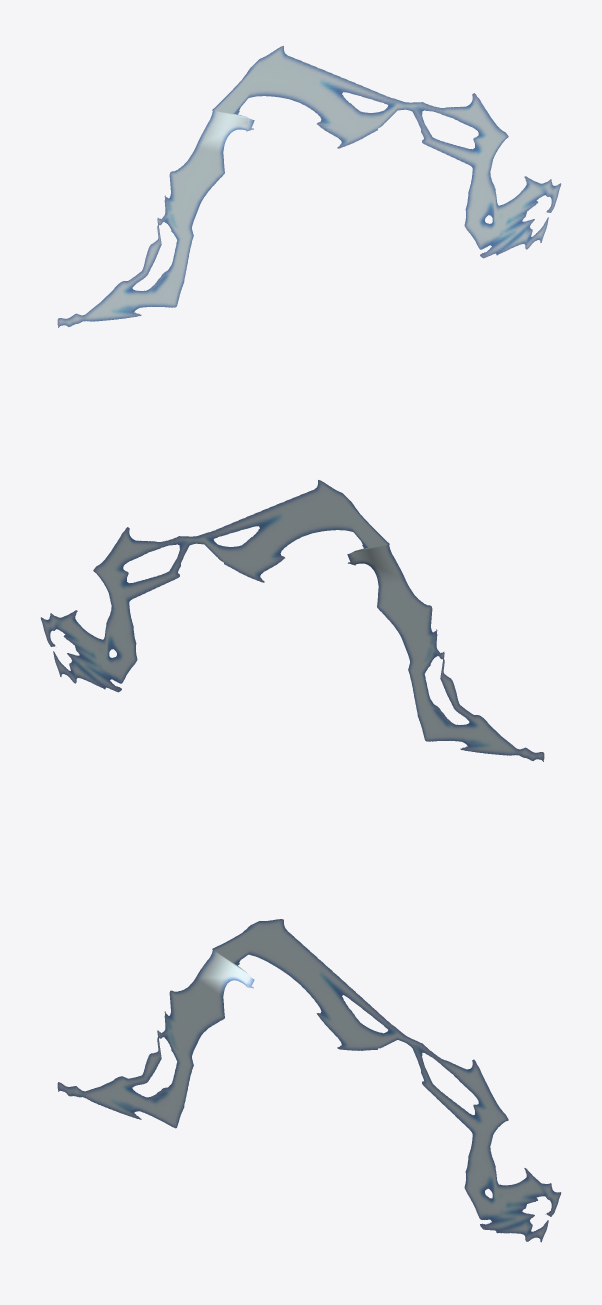
File: shandian_3.FBX
The picture shows the model from 3 angles, top to bottom: view 1: azimuth 30°, elevation 25°; view 2: azimuth 150°, elevation 25°; view 3: azimuth 330°, elevation 25°; orthographic projection.
Visible parts, largest first — view 1: shandian_3; view 2: shandian_3; view 3: shandian_3.
Boxes of the visible parts, bbox=[...] form: shandian_3: bbox=[57, 46, 561, 327]; shandian_3: bbox=[40, 480, 544, 761]; shandian_3: bbox=[57, 919, 561, 1242].
Bounding box in the file's own units: 206 × 123 × 2.02e-05.
